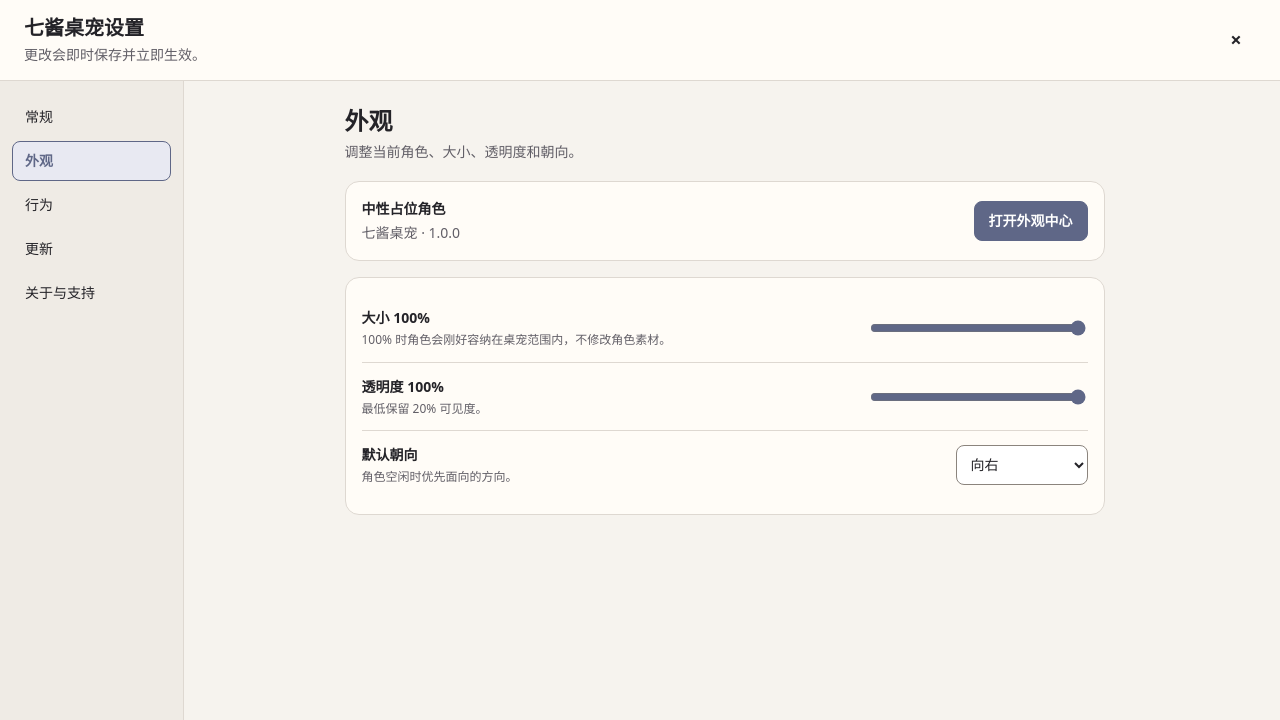
Test: SettingsWindow › reports the final patch failure and restores the canonical setting
Set the slider labelled "大小 100%" to "50": point(966, 328) 870,320 -> 1086,336
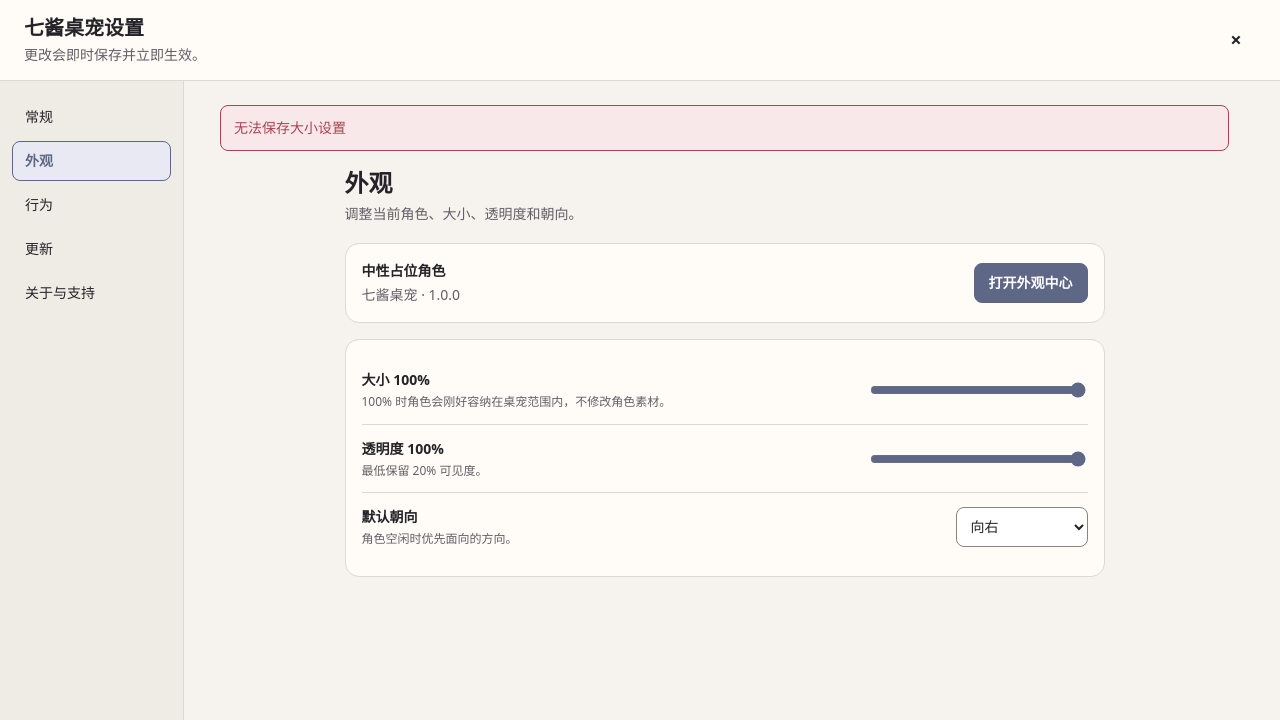
Check: the text "大小 100%" is shown, box 362,370 -> 430,389
Check: the message reads "无法保存大小设置", box 234,118 -> 346,137
